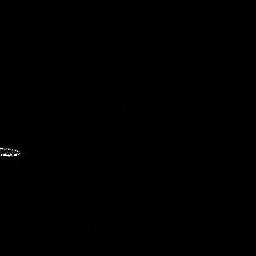ship: (1, 145, 24, 158)
